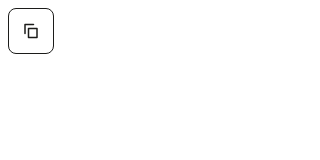
Test: CopyButton › names an icon-only button after the failure
Step 1. Click the button named "Copy" → coordinates (31, 31), box [8,8,54,54]
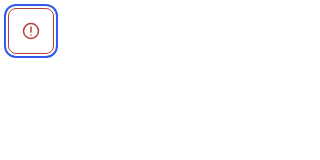
Result: the button named "Copy failed" has attribute data-status="failed" at [8,8,54,54]
